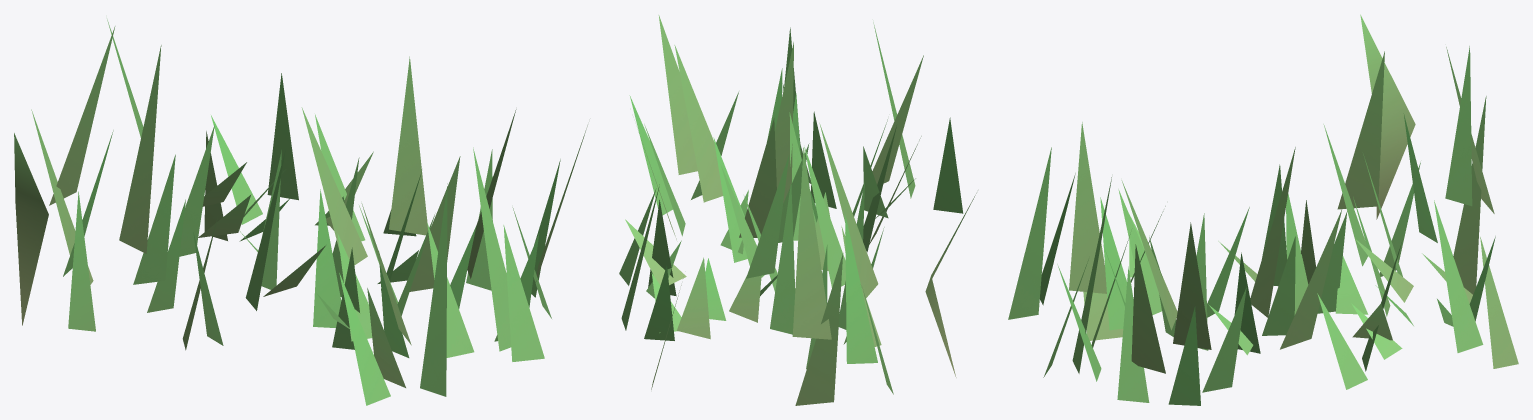
The model's file is grass_touffe_5.fbx.
3 views of the same model, side by side, from view 1: azimuth 30°, elevation 25°; view 2: azimuth 150°, elevation 25°; view 3: azimuth 270°, elevation 25° (orthographic). The views are drawn at different scales.
Visible parts, largest first — view 1: grass_touffe_5; view 2: grass_touffe_5; view 3: grass_touffe_5.
Boxes of the visible parts, bbox=[...] form: grass_touffe_5: bbox=[14, 19, 587, 405]; grass_touffe_5: bbox=[619, 15, 976, 405]; grass_touffe_5: bbox=[1008, 14, 1518, 405].
Bounding box in the file's own units: 17.67 × 9.84 × 17.45.
